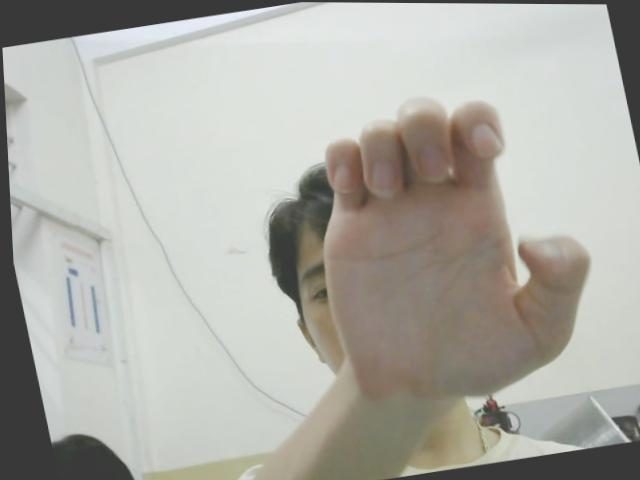E: (285, 70, 611, 418)
